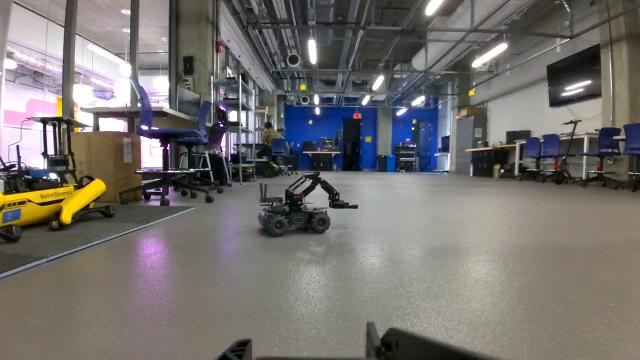robot: (256, 167, 362, 241)
